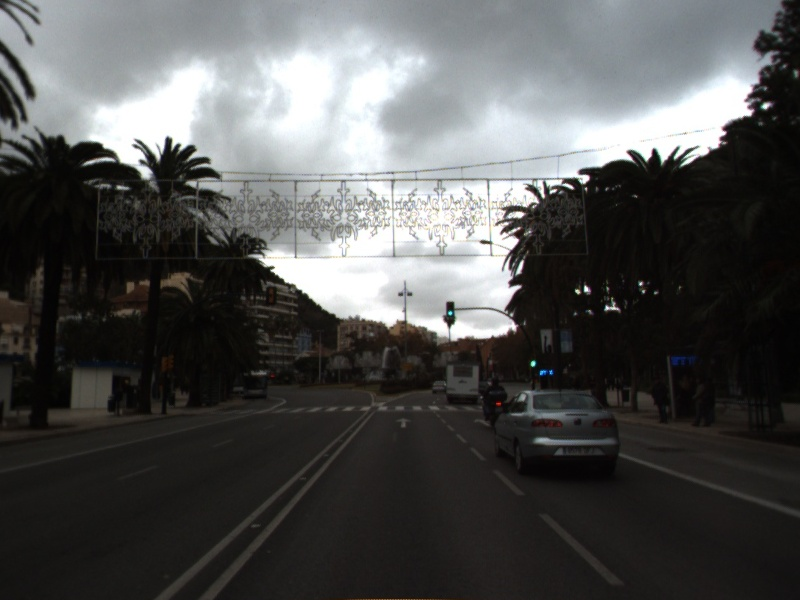STRAIGHT: (393, 416, 414, 429), (471, 416, 493, 428)
